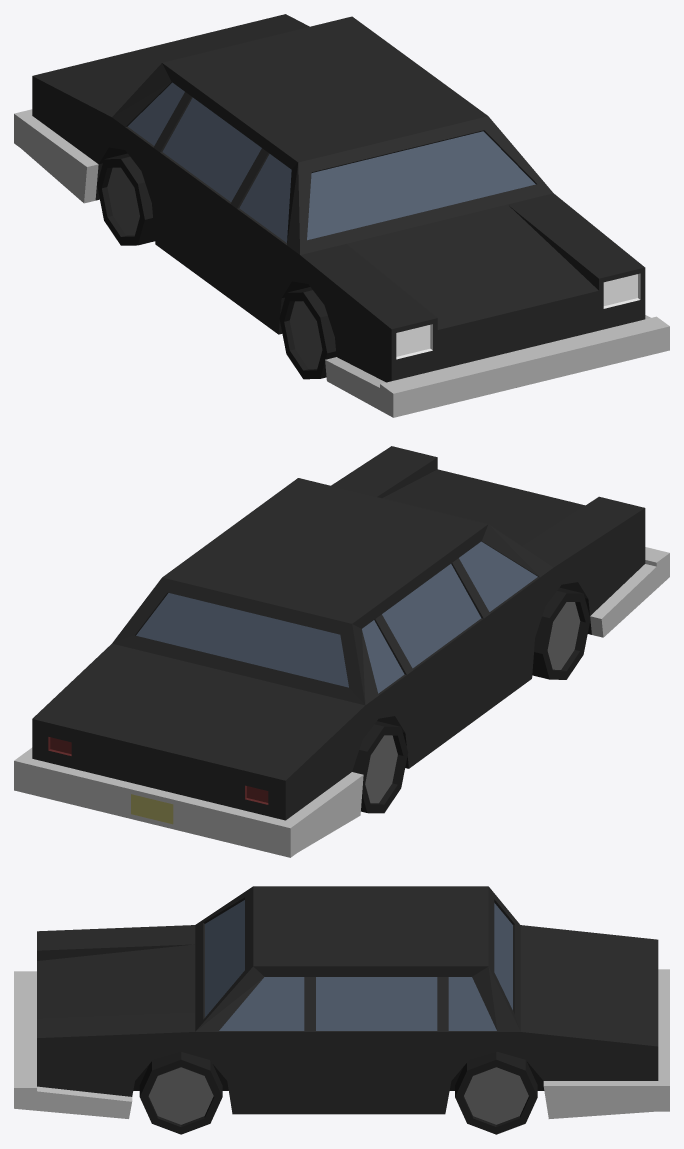
Rendered from car.fbx.
3 views of the same model, one above another, from view 1: azimuth 30°, elevation 25°; view 2: azimuth 150°, elevation 25°; view 3: azimuth 270°, elevation 25° (orthographic). The views are drawn at different scales.
Parts seen in each view (by area): view 1: Group3, Group7, Group8, Group2; view 2: Group3, Group2, Group8, Group7, Group4; view 3: Group3, Group7, Group9, Group10.
Boxes of the visible parts, x1,y1,x2,y2 form: Group3: (14,14,645,382); Group7: (325,315,669,417); Group8: (97,153,154,245); Group2: (279,287,336,379); Group3: (14,446,645,857); Group2: (532,587,590,679); Group8: (352,721,408,813); Group7: (590,547,669,637); Group4: (131,794,173,824); Group3: (37,886,669,1118); Group7: (14,971,132,1118); Group9: (139,1052,222,1134); Group10: (455,1052,537,1134).
Size of the model in its own units: 6000 by 3676 by 14261.
